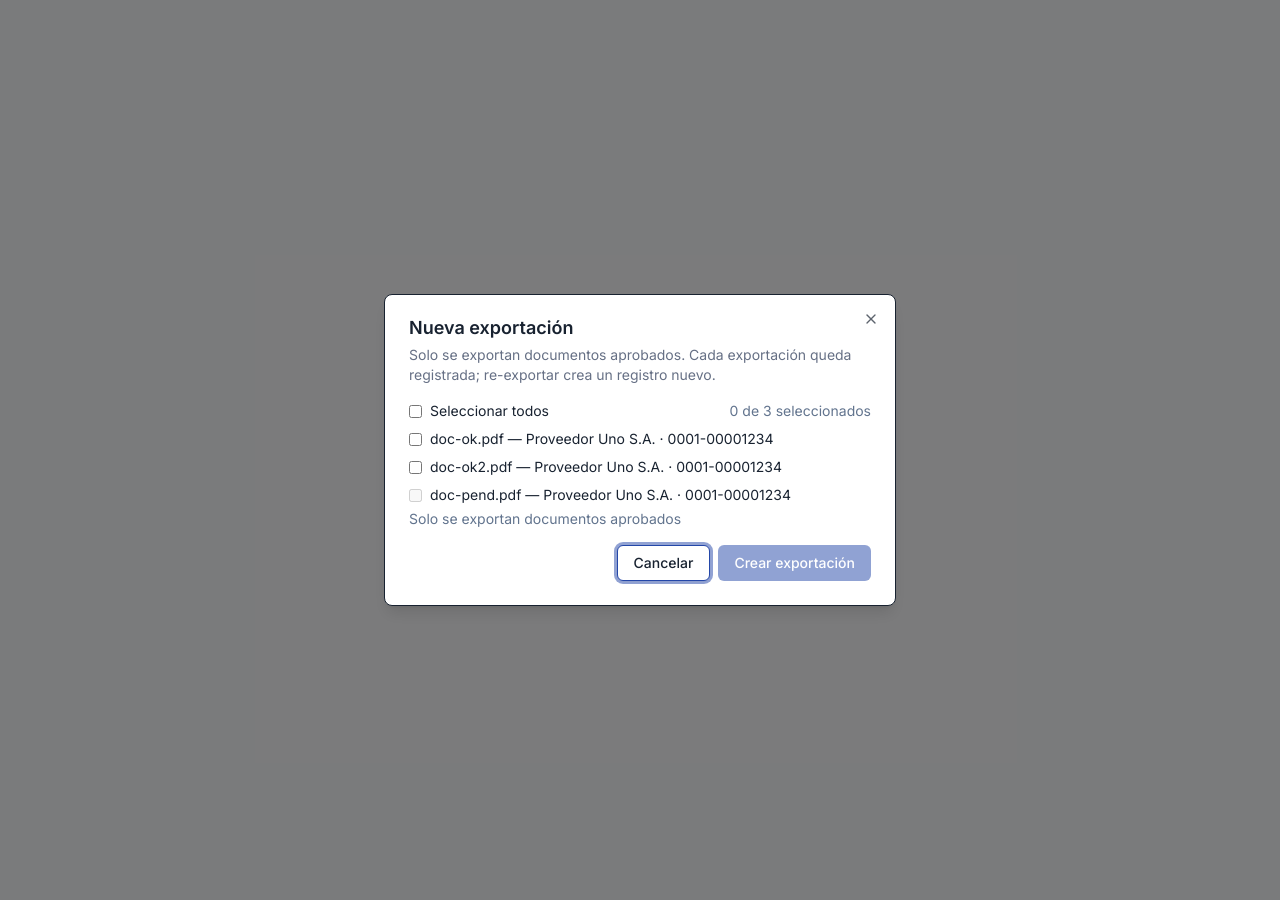
CreateExportDialog › ítem 4: contador X de Y seleccionados al tildar/destildar
Check: the text "0 de 3 seleccionados" is shown, box [730,401,871,421]
Click the checkbox labelled "doc-ok.pdf — Proveedor Uno S.A. · 0001-00001234".
click(416, 439)  # box [409,432,422,446]
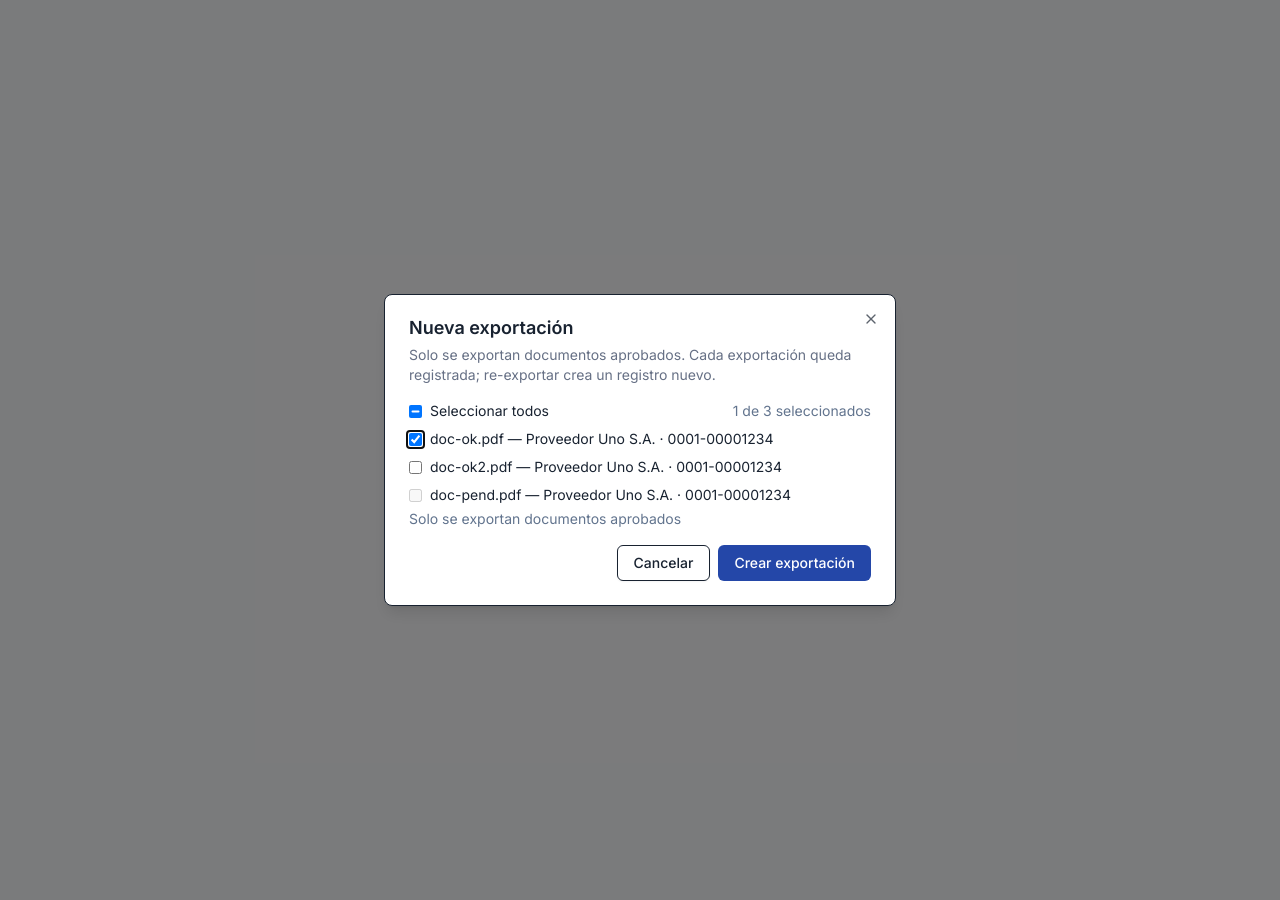
Check: the text "1 de 3 seleccionados" is shown, box [733,401,871,421]
Click the checkbox labelled "doc-ok2.pdf — Proveedor Uno S.A. · 0001-00001234".
click(416, 467)  # box [409,460,422,474]
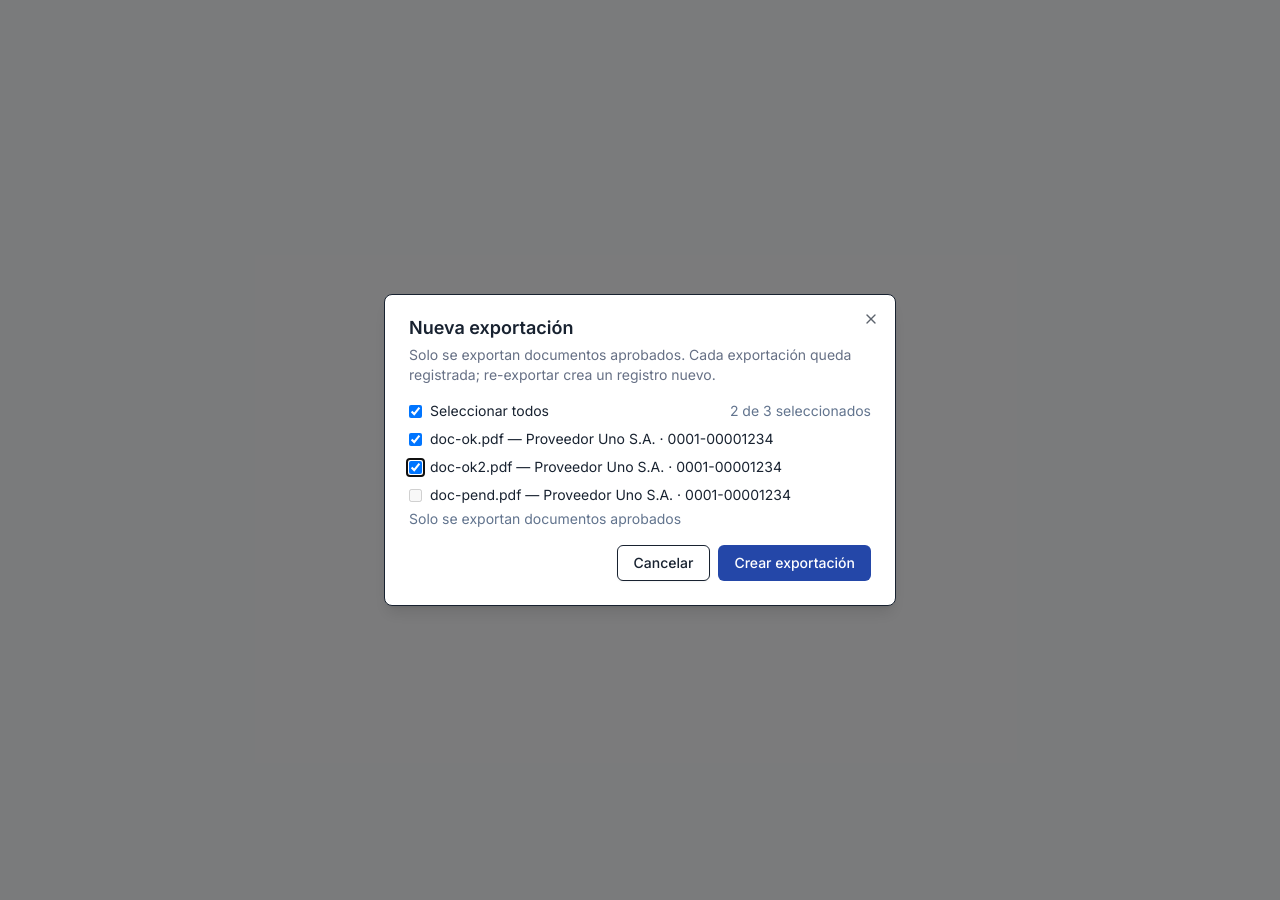
Check: the text "2 de 3 seleccionados" is shown, box [730,401,871,421]
